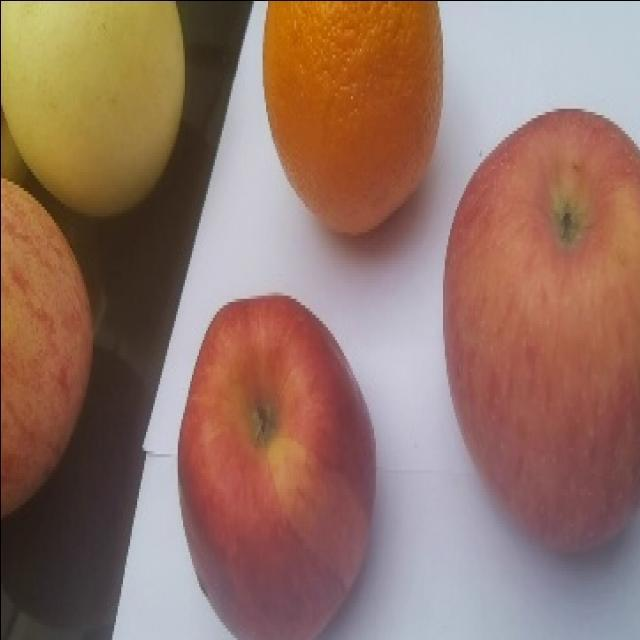Apple: (441, 107, 640, 550), (179, 294, 378, 640), (0, 178, 98, 514)
Orange: (264, 0, 443, 233)
